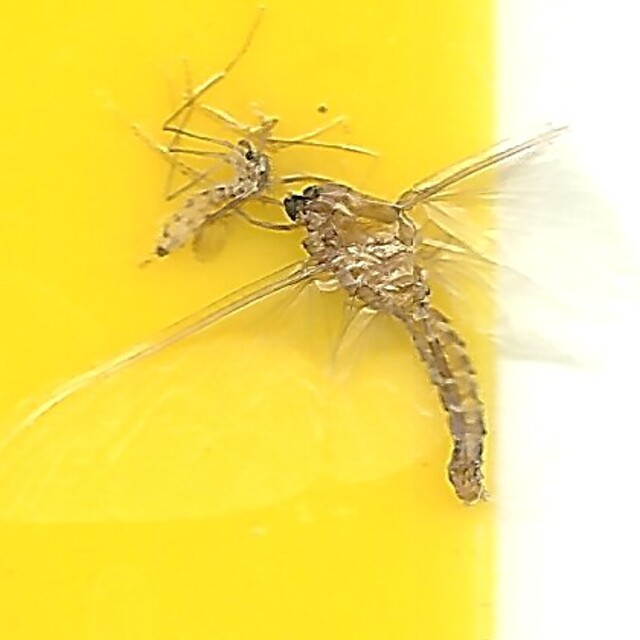Ephemeroptera: (273, 183, 488, 504)
Nematocera: (152, 136, 277, 266)
